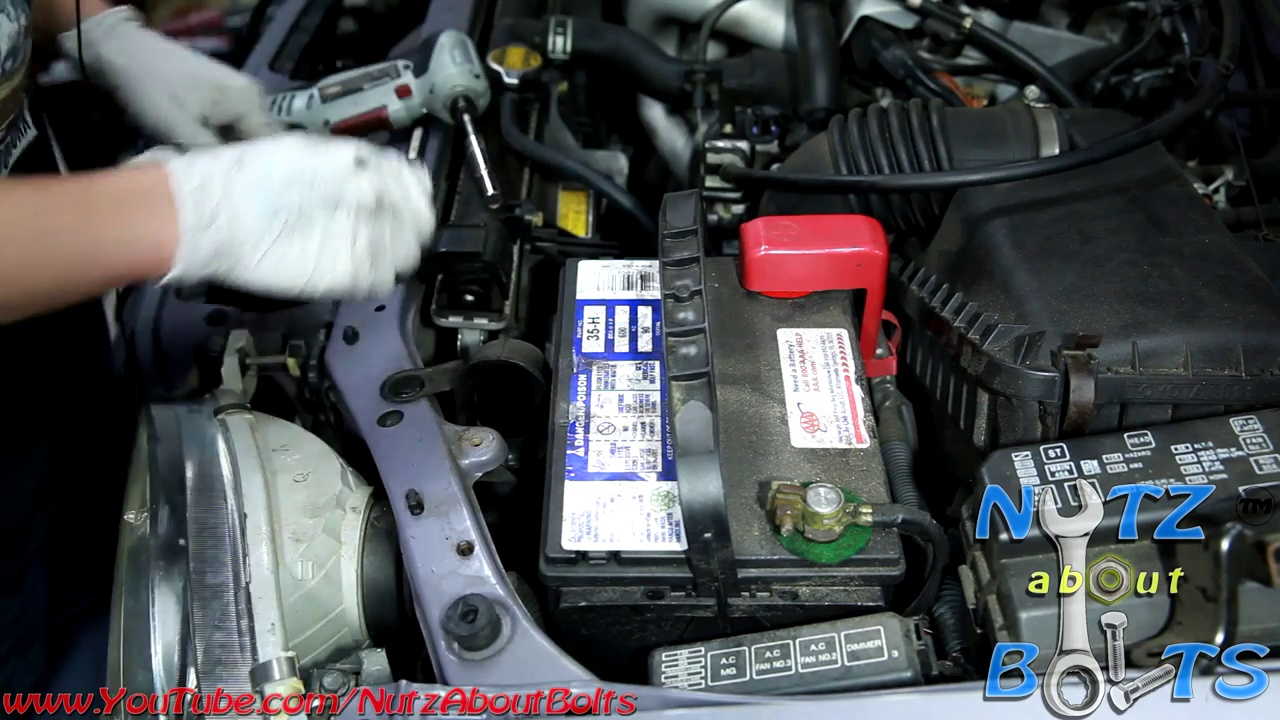battery: (550, 199, 914, 596)
neg_connected: (747, 450, 935, 576)
pos_connected: (727, 204, 902, 353)
